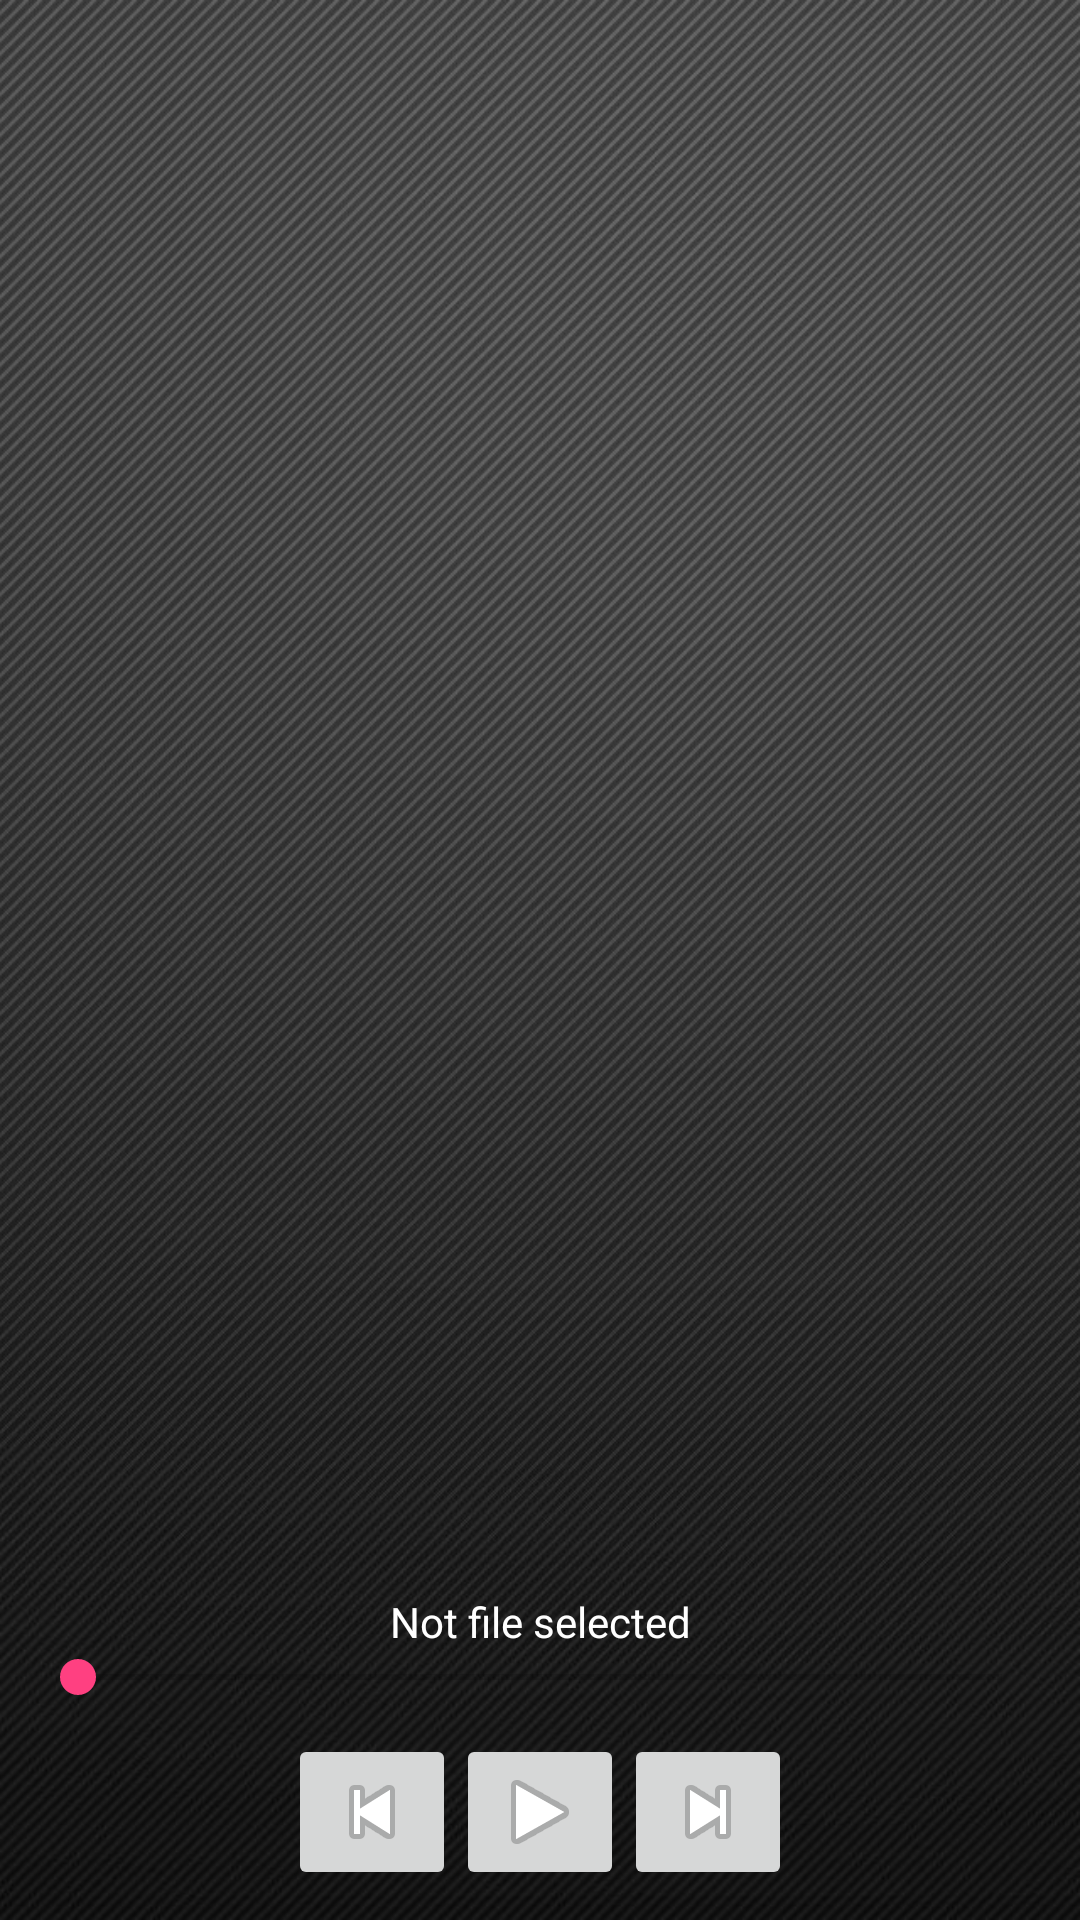

Icons on this 1080 × 1920 Android screen, each with the point to tap as (x=x, y=y):
next: (x=708, y=1812)
play: (x=540, y=1812)
previous: (x=372, y=1812)
